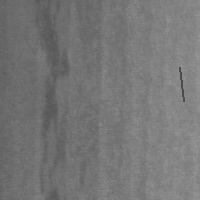inclusion: (30, 2, 70, 197), (177, 65, 185, 103)
